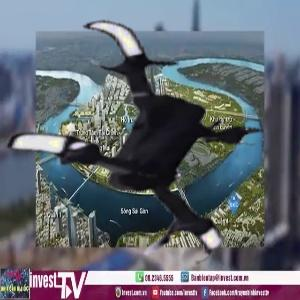drone: (6, 6, 296, 296)
